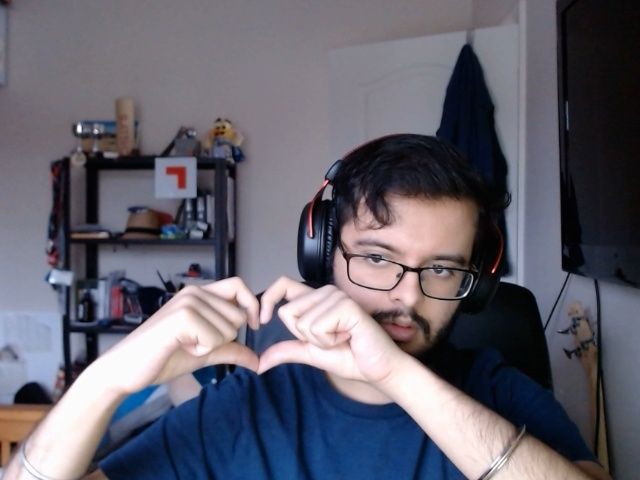Heart: (155, 276, 357, 384)
